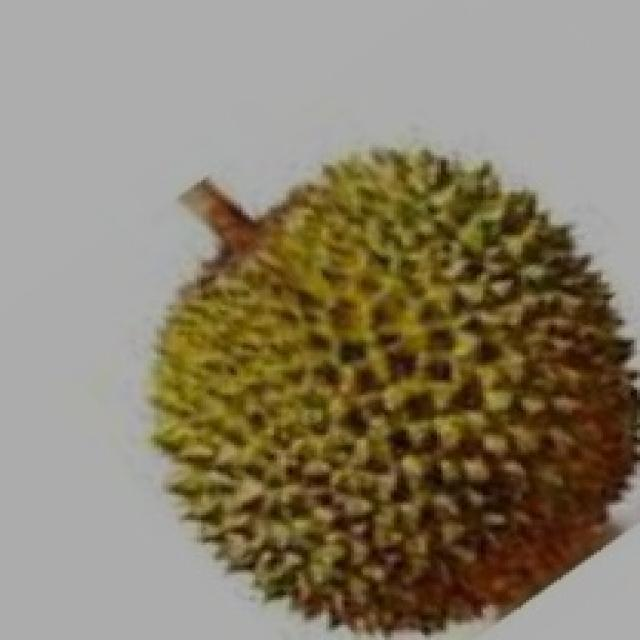fruit: (295, 198, 640, 638), (95, 227, 439, 640)
